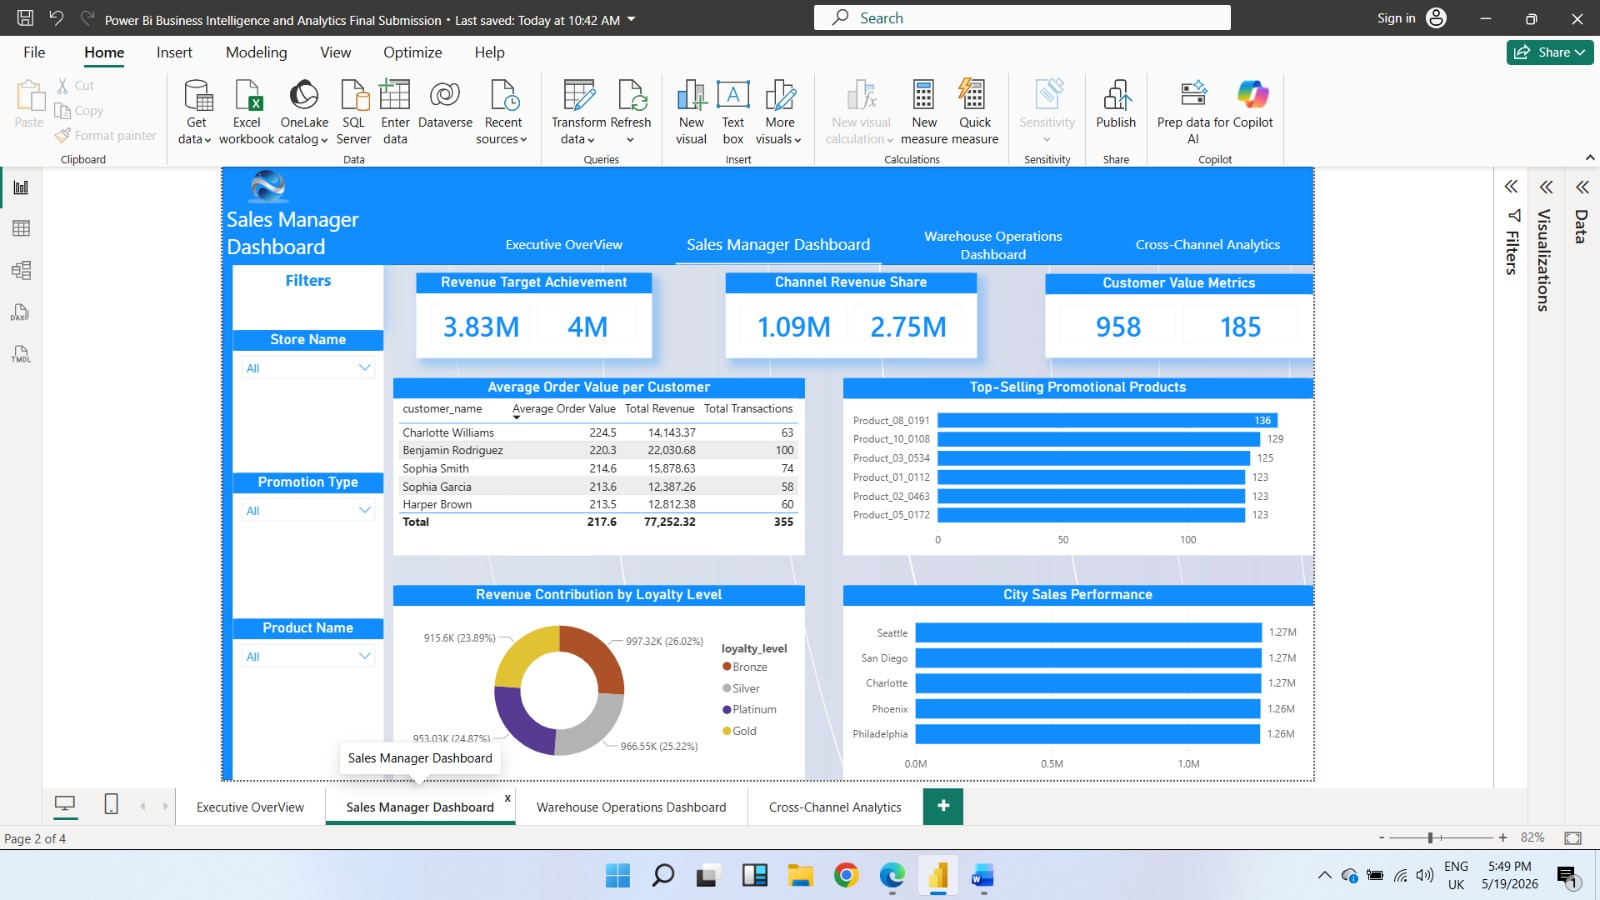

The page's visual inventory and layout, read from the dashboard file:
{"tool":"powerbi","page":{"name":"Sales Manager Dashboard","canvas":[1280,720],"ordinal":1},"visuals":[{"type":"shape","box":[0,0,1280,115.5],"z":0},{"type":"shape","box":[0,108.8,12.2,611.4],"z":1000},{"type":"textbox","box":[12.8,115.5,176.7,604.4],"z":2000},{"type":"textbox","box":[12.8,115.5,176.7,77],"z":3000},{"type":"textbox","box":[0,39.9,201,75.5],"z":4000},{"type":"image","box":[5.7,0,95.5,44.2],"z":5000},{"type":"pageNavigator","box":[279.9,65.9,1000.3,49.4],"z":6000},{"type":"cardVisual","title":"Revenue Target Achievement","fields":{"Data":["Measures .Total Revenue","Measures .Revenue Target"]},"box":[227.8,124.9,277.2,100.2],"z":7000},{"type":"cardVisual","title":"Channel Revenue Share","fields":{"Data":["Measures .Total Online Revenue","Measures .Total POS Revenue"]},"box":[590.1,124.9,295,100.2],"z":8000},{"type":"cardVisual","title":"Customer Value Metrics","fields":{"Data":["Measures .Revenue Per Customer","Measures .Average Order Value"]},"box":[966,126.2,314.2,98.8],"z":9000},{"type":"clusteredBarChart","title":"City Sales Performance","fields":{"Category":["gold dim_store.city"],"Y":["Measures .Total Revenue"]},"box":[728.4,491.8,551.6,228.1],"z":11000},{"type":"donutChart","title":"Revenue Contribution by Loyalty Level","fields":{"Category":["gold dim_customer.loyalty_level"],"Y":["Measures .Total Revenue"]},"box":[201,491.8,483.2,228.1],"z":12000},{"type":"tableEx","title":"Average Order Value per Customer","fields":{"Values":["gold dim_customer.customer_name","Measures .Average Order Value","Measures .Total Revenue","Measures .Total Transactions"]},"box":[201,248,483.2,208.1],"z":13000},{"type":"slicer","title":"Store Name","fields":{"Values":["gold dim_customer.loyalty_level"]},"box":[12.3,192.1,177,167.4],"z":14000},{"type":"slicer","title":"Promotion Type","fields":{"Values":["gold dim_warehouse.warehouse_name"]},"box":[12.3,359.5,177,171.5],"z":15000},{"type":"slicer","title":"Product Name","fields":{"Values":["gold dim_product.product_name"]},"box":[12.3,531,177,189.4],"z":18000},{"type":"clusteredBarChart","title":"Top-Selling Promotional Products","fields":{"Category":["gold dim_product.product_name"],"Y":["Measures .Total Quantity Sold"]},"box":[728.4,248,551.6,208.1],"z":19000}]}

Visuals, with their boxes on the page's 1280x720 design canvas (x1, y1, x2, y2). These are canvas units, not pixel positions in the 1600x900 screenshot, which may show the page scaled, cropped or inside an application window:
shape: select_region(0, 0, 1280, 116)
shape: select_region(0, 109, 12, 720)
textbox: select_region(13, 116, 190, 720)
textbox: select_region(13, 116, 190, 192)
textbox: select_region(0, 40, 201, 115)
image: select_region(6, 0, 101, 44)
pageNavigator: select_region(280, 66, 1280, 115)
"Revenue Target Achievement" cardVisual: select_region(228, 125, 505, 225)
"Channel Revenue Share" cardVisual: select_region(590, 125, 885, 225)
"Customer Value Metrics" cardVisual: select_region(966, 126, 1280, 225)
"City Sales Performance" clusteredBarChart: select_region(728, 492, 1280, 720)
"Revenue Contribution by Loyalty Level" donutChart: select_region(201, 492, 684, 720)
"Average Order Value per Customer" tableEx: select_region(201, 248, 684, 456)
"Store Name" slicer: select_region(12, 192, 189, 360)
"Promotion Type" slicer: select_region(12, 360, 189, 531)
"Product Name" slicer: select_region(12, 531, 189, 720)
"Top-Selling Promotional Products" clusteredBarChart: select_region(728, 248, 1280, 456)
